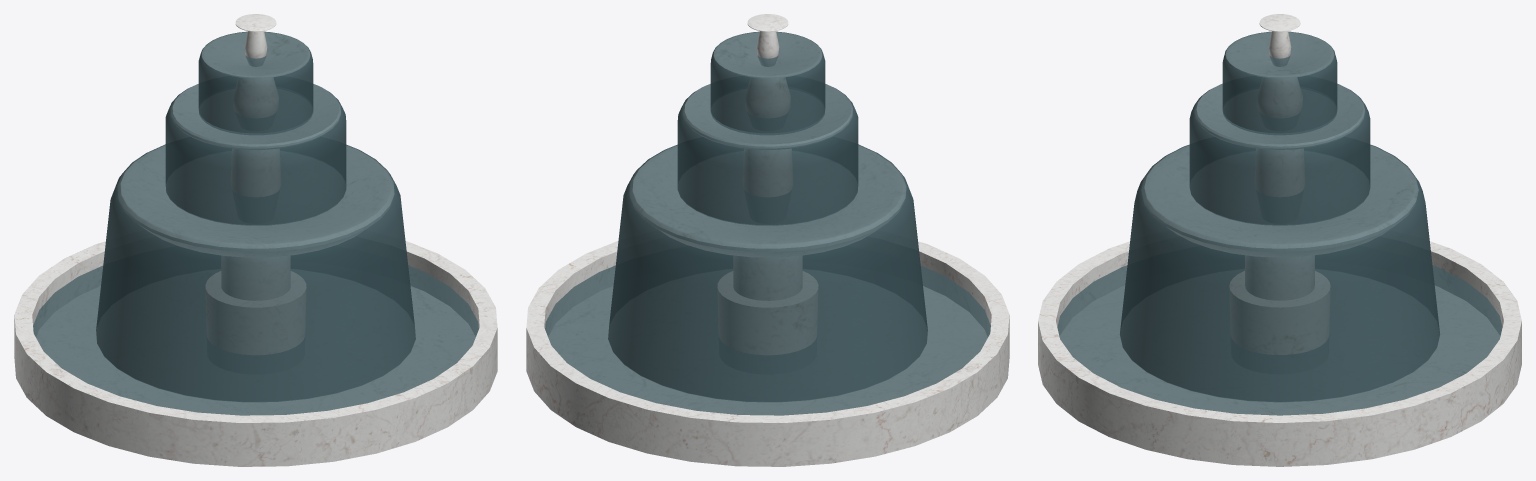
The model's file is fountain.fbx.
3 views of the same model, side by side, from view 1: azimuth 30°, elevation 25°; view 2: azimuth 150°, elevation 25°; view 3: azimuth 270°, elevation 25° (orthographic).
Parts seen in each view (by area): view 1: Cylinder.001, Cylinder.004; view 2: Cylinder.001, Cylinder.004; view 3: Cylinder.001, Cylinder.004.
Part boxes in pixels (left/top/right/bottom): Cylinder.001: left=33, top=31, right=478, bottom=415; Cylinder.004: left=14, top=14, right=497, bottom=466; Cylinder.001: left=545, top=31, right=990, bottom=415; Cylinder.004: left=526, top=14, right=1009, bottom=466; Cylinder.001: left=1057, top=31, right=1502, bottom=415; Cylinder.004: left=1038, top=14, right=1521, bottom=466.
Size of the model in its own units: 180 by 140 by 180.
